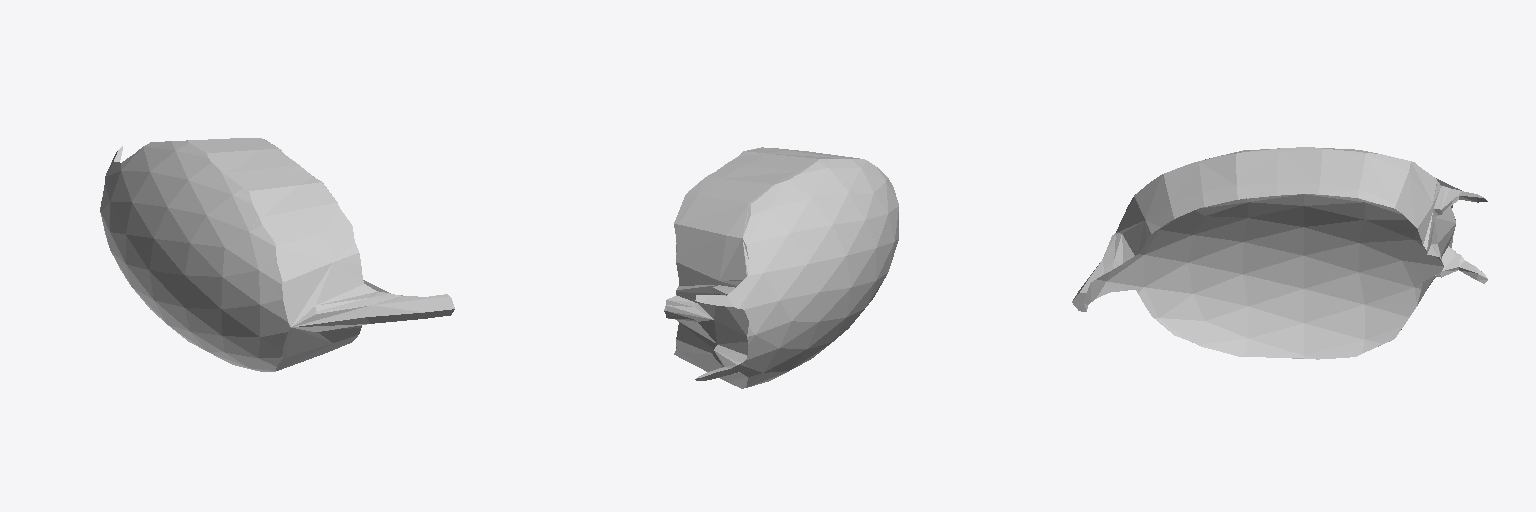
The picture shows the model from 3 angles: view 1: azimuth 30°, elevation 25°; view 2: azimuth 150°, elevation 25°; view 3: azimuth 270°, elevation 25°; orthographic projection.
Parts seen in each view (by area): view 1: joint_6; view 2: joint_6; view 3: joint_6.
Boxes of the visible parts, <box> form: joint_6: <box>100,138,454,371</box>; joint_6: <box>664,147,898,388</box>; joint_6: <box>1072,147,1487,359</box>.
Size of the model in its own units: 0.002 by 0.0019 by 0.0038.